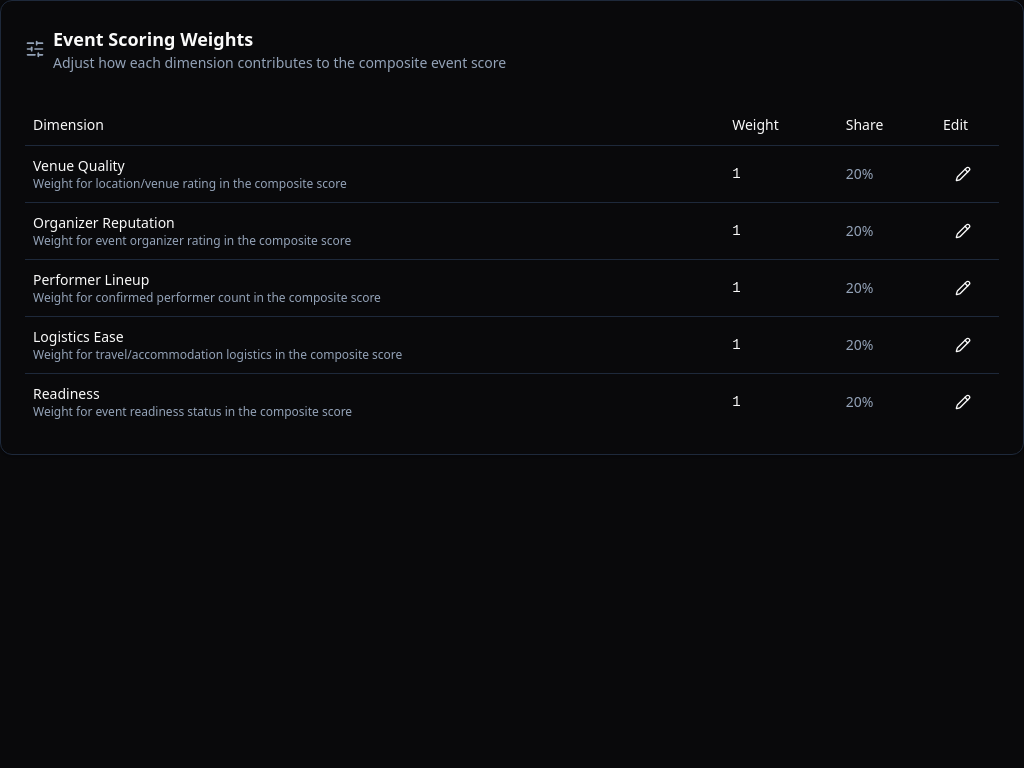
ScoringWeightsSection › opens edit dialog when edit button is clicked
Click the button without text in the row of "Venue Quality". click: {"x": 963, "y": 174}
box: x1=943 y1=154 x2=983 y2=194
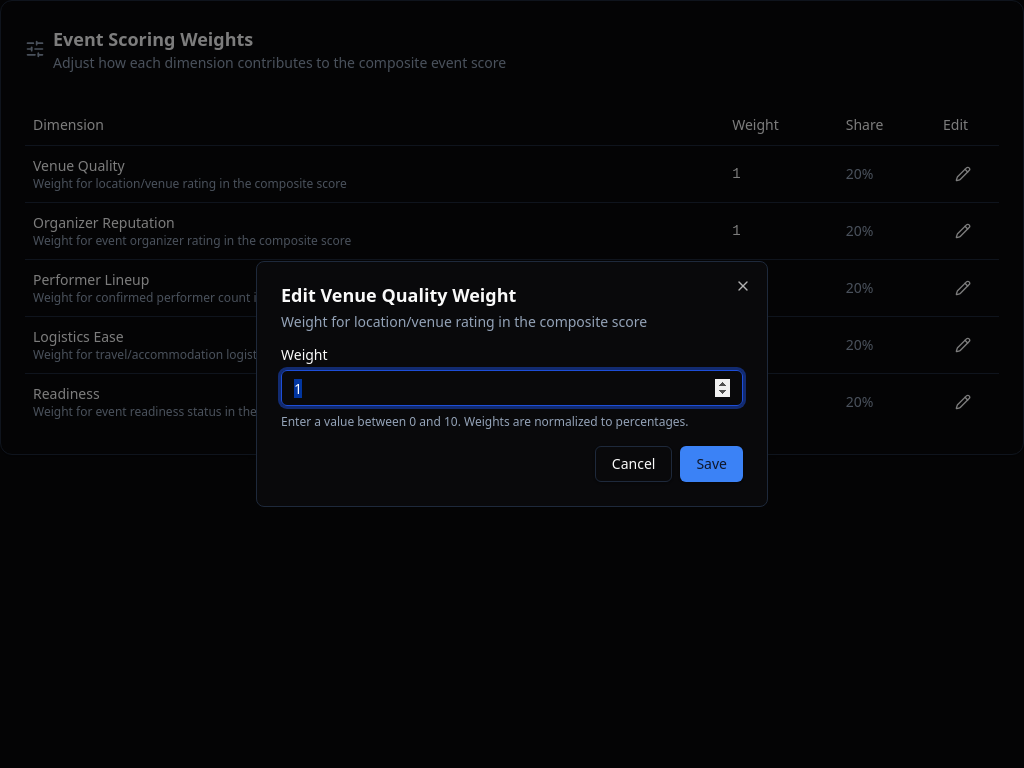
Check: the heading "Edit Venue Quality Weight" is shown, box x1=281 y1=283 x2=516 y2=307
Check: the number field labelled "Weight" holds "1", box x1=281 y1=370 x2=743 y2=406
